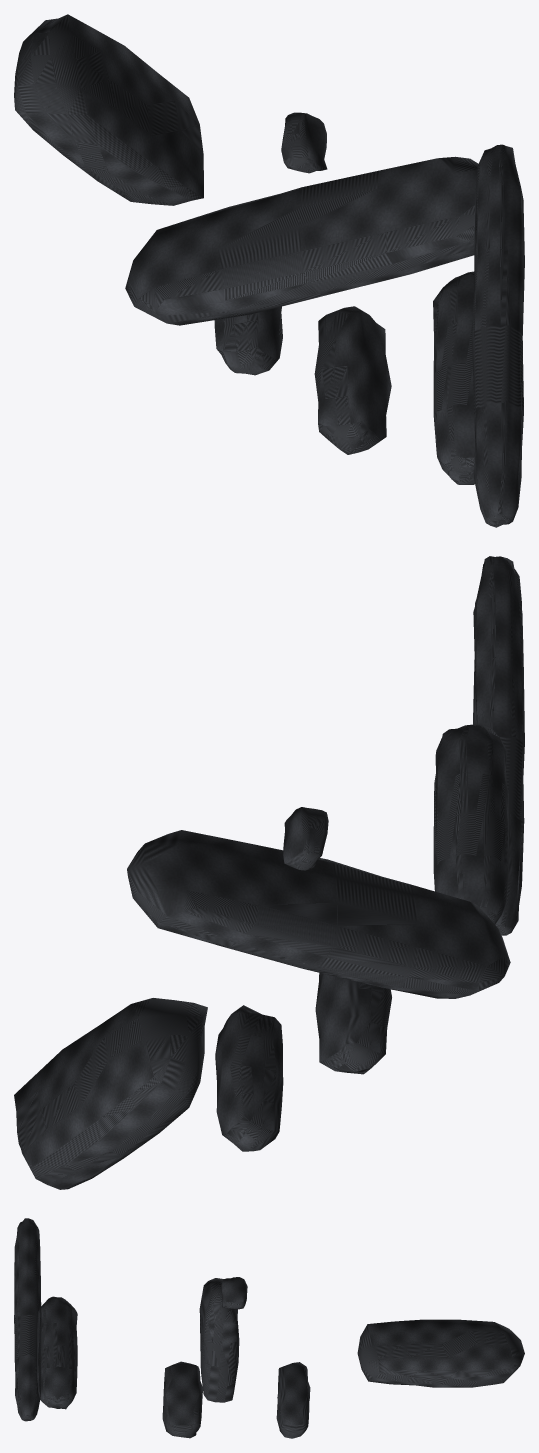
File: gun_rifle_low.glb
The picture shows the model from 3 angles, top to bottom: view 1: azimuth 30°, elevation 25°; view 2: azimuth 150°, elevation 25°; view 3: azimuth 270°, elevation 25°; orthographic projection. The views are drawn at different scales.
Bounding box in the file's own units: 0.3201 × 0.325 × 0.6922.
1 material, 1 textured.
